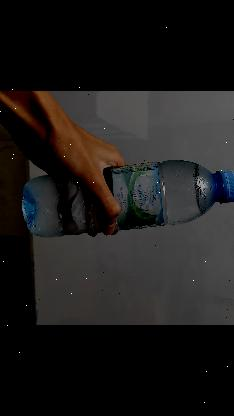Plastic Bottle: (17, 158, 234, 242)
